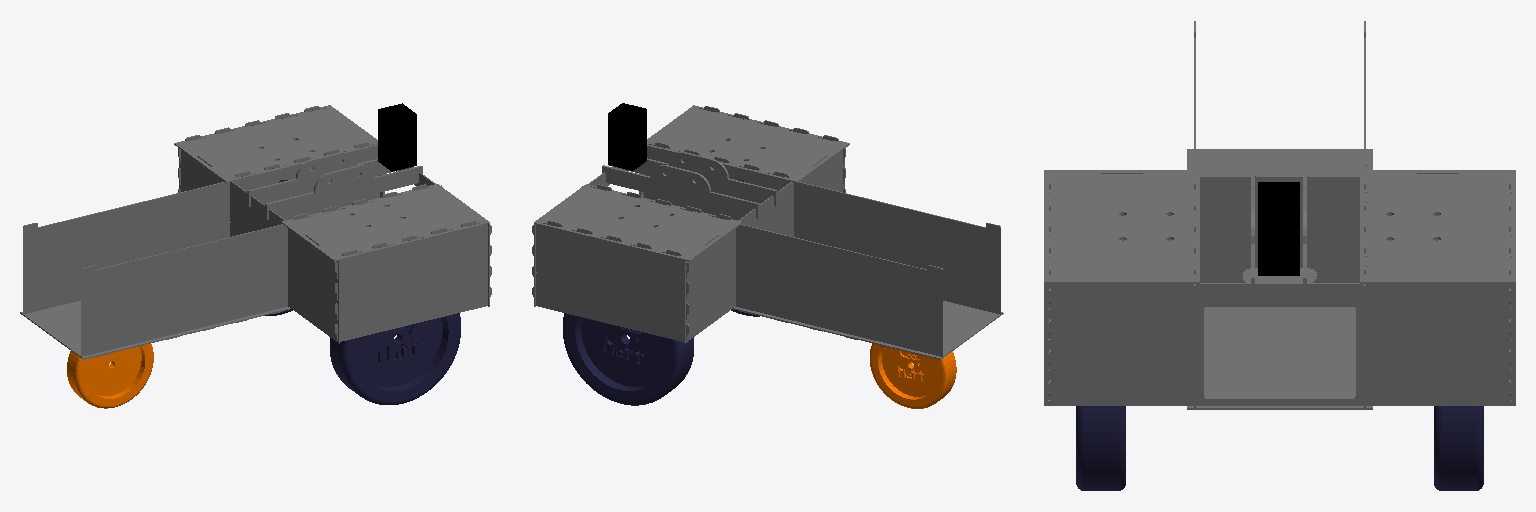
URDF robot description (igvc):
<robot
  name="igvc">
  <link
    name="base_link">
    <inertial>
      <origin
        xyz="-0.32774 0.34915 0.10574"
        rpy="0 0 0" />
      <mass
        value="4.1331" />
      <inertia
        ixx="0.18727"
        ixy="-5.4284E-05"
        ixz="0.022471"
        iyy="0.28211"
        iyz="-4.1854E-05"
        izz="0.4159" />
    </inertial>
    <visual>
      <origin
        xyz="0 0 0"
        rpy="0 0 0" />
      <geometry>
        <mesh
          filename="package://robot_description/meshes/base_link.STL" />
      </geometry>
      <material
        name="">
        <color
          rgba="0.5 0.5 0.5 1" />
      </material>
    </visual>
    <collision>
      <origin
        xyz="0 0 0"
        rpy="0 0 0" />
      <geometry>
        <mesh
          filename="package://robot_description/meshes/base_link.STL" />
      </geometry>
    </collision>
  </link>
  <link
    name="left_wheel_link">
    <inertial>
      <origin
        xyz="3.359E-05 2.839E-05 0.038042"
        rpy="0 0 0" />
      <mass
        value="3.3664" />
      <inertia
        ixx="0.025859"
        ixy="1.737E-06"
        ixz="7.2454E-07"
        iyy="0.025868"
        iyz="6.1242E-07"
        izz="0.049429" />
    </inertial>
    <visual>
      <origin
        xyz="0 0 0"
        rpy="0 0 0" />
      <geometry>
        <mesh
          filename="package://robot_description/meshes/left_wheel_link.STL" />
      </geometry>
      <material
        name="">
        <color
          rgba="0.18 0.18 0.31 1" />
      </material>
    </visual>
    <collision>
      <origin
        xyz="0 0 0"
        rpy="0 0 0" />
      <geometry>
        <mesh
          filename="package://robot_description/meshes/left_wheel_link.STL" />
      </geometry>
    </collision>
  </link>
  <joint
    name="left_wheel_joint"
    type="continuous">
    <origin
      xyz="-0.19368 0.58103 -0.060325"
      rpy="1.5708 0.11459 -3.1416" />
    <parent
      link="base_link" />
    <child
      link="left_wheel_link" />
    <axis
      xyz="0 0 1" />
  </joint>
  <link
    name="right_wheel_link">
    <inertial>
      <origin
        xyz="3.359E-05 2.839E-05 -0.038158"
        rpy="0 0 0" />
      <mass
        value="3.3664" />
      <inertia
        ixx="0.025859"
        ixy="1.737E-06"
        ixz="7.2454E-07"
        iyy="0.025868"
        iyz="6.1242E-07"
        izz="0.049429" />
    </inertial>
    <visual>
      <origin
        xyz="0 0 0"
        rpy="0 0 0" />
      <geometry>
        <mesh
          filename="package://robot_description/meshes/right_wheel_link.STL" />
      </geometry>
      <material
        name="">
        <color
          rgba="0.18 0.18 0.31 1" />
      </material>
    </visual>
    <collision>
      <origin
        xyz="0 0 0"
        rpy="0 0 0" />
      <geometry>
        <mesh
          filename="package://robot_description/meshes/right_wheel_link.STL" />
      </geometry>
    </collision>
  </link>
  <joint
    name="right_wheel_joint"
    type="continuous">
    <origin
      xyz="-0.19368 0.041275 -0.060325"
      rpy="1.5708 0 0" />
    <parent
      link="base_link" />
    <child
      link="right_wheel_link" />
    <axis
      xyz="0 0 1" />
  </joint>
  <link
    name="back_wheel_link">
    <inertial>
      <origin
        xyz="2.2169E-05 1.8737E-05 0.025108"
        rpy="0 0 0" />
      <mass
        value="0.96781" />
      <inertia
        ixx="0.0032385"
        ixy="2.1753E-07"
        ixz="9.0737E-08"
        iyy="0.0032396"
        iyz="7.6695E-08"
        izz="0.0061901" />
    </inertial>
    <visual>
      <origin
        xyz="0 0 0"
        rpy="0 0 0" />
      <geometry>
        <mesh
          filename="package://robot_description/meshes/back_wheel_link.STL" />
      </geometry>
      <material
        name="">
        <color
          rgba="1 0.5 0 1" />
      </material>
    </visual>
    <collision>
      <origin
        xyz="0 0 0"
        rpy="0 0 0" />
      <geometry>
        <mesh
          filename="package://robot_description/meshes/back_wheel_link.STL" />
      </geometry>
    </collision>
  </link>
  <joint
    name="back_wheel_joint"
    type="continuous">
    <origin
      xyz="-0.76733 0.32525 -0.10058"
      rpy="1.5708 -0.057299 3.1416" />
    <parent
      link="base_link" />
    <child
      link="back_wheel_link" />
    <axis
      xyz="0 0 1" />
  </joint>
  <link
    name="laser_link">
    <inertial>
      <origin
        xyz="-6.9389E-18 0 0.0635"
        rpy="0 0 0" />
      <mass
        value="0.5121" />
      <inertia
        ixx="0.00086037"
        ixy="-3.3902E-20"
        ixz="0"
        iyy="0.00086037"
        iyz="-7.4029E-21"
        izz="0.00034415" />
    </inertial>
    <visual>
      <origin
        xyz="0 0 0"
        rpy="0 0 0" />
      <geometry>
        <mesh
          filename="package://robot_description/meshes/laser_link.STL" />
      </geometry>
      <material
        name="">
        <color
          rgba="0 0 0 .7" />
      </material>
    </visual>
    <collision>
      <origin
        xyz="0 0 0"
        rpy="0 0 0" />
      <geometry>
        <mesh
          filename="package://robot_description/meshes/laser_link.STL" />
      </geometry>
    </collision>
  </link>
  <joint
    name="laser_joint"
    type="fixed">
    <origin
      xyz="-0.034925 0.34722 0.34608"
      rpy="3.1416 0 0" />
    <parent
      link="base_link" />
    <child
      link="laser_link" />
    <axis
      xyz="0 0 0" />
  </joint>
</robot>

--- Facts derived from the render (not from the file) ---
The picture shows the robot from 3 angles, left to right: view 1: azimuth 30°, elevation 25°; view 2: azimuth 150°, elevation 25°; view 3: azimuth 270°, elevation 25°; orthographic projection.
Robot: igvc — 5 links, 4 joints (3 continuous, 1 fixed); root link base_link; default pose: all joints at 0.
Visible links, largest first — view 1: base_link, right_wheel_link, back_wheel_link, laser_link; view 2: base_link, left_wheel_link, back_wheel_link, laser_link; view 3: base_link, left_wheel_link, right_wheel_link, laser_link.
Boxes of the visible links, box(x1,y1,x2,y2) form: base_link: box(20, 105, 491, 359); right_wheel_link: box(330, 313, 460, 404); back_wheel_link: box(67, 344, 153, 408); laser_link: box(378, 103, 416, 171); base_link: box(532, 105, 1003, 359); left_wheel_link: box(563, 313, 693, 405); back_wheel_link: box(870, 343, 956, 408); laser_link: box(608, 103, 646, 170); base_link: box(1044, 21, 1515, 409); left_wheel_link: box(1434, 406, 1483, 490); right_wheel_link: box(1076, 406, 1125, 490); laser_link: box(1258, 182, 1299, 275).
Bounding box of the posed robot: 0.9239 × 0.7112 × 0.5586 m (x, y, z).
Meshes: 5 distinct files referenced, 5 mesh visuals loaded (5 binary STL).